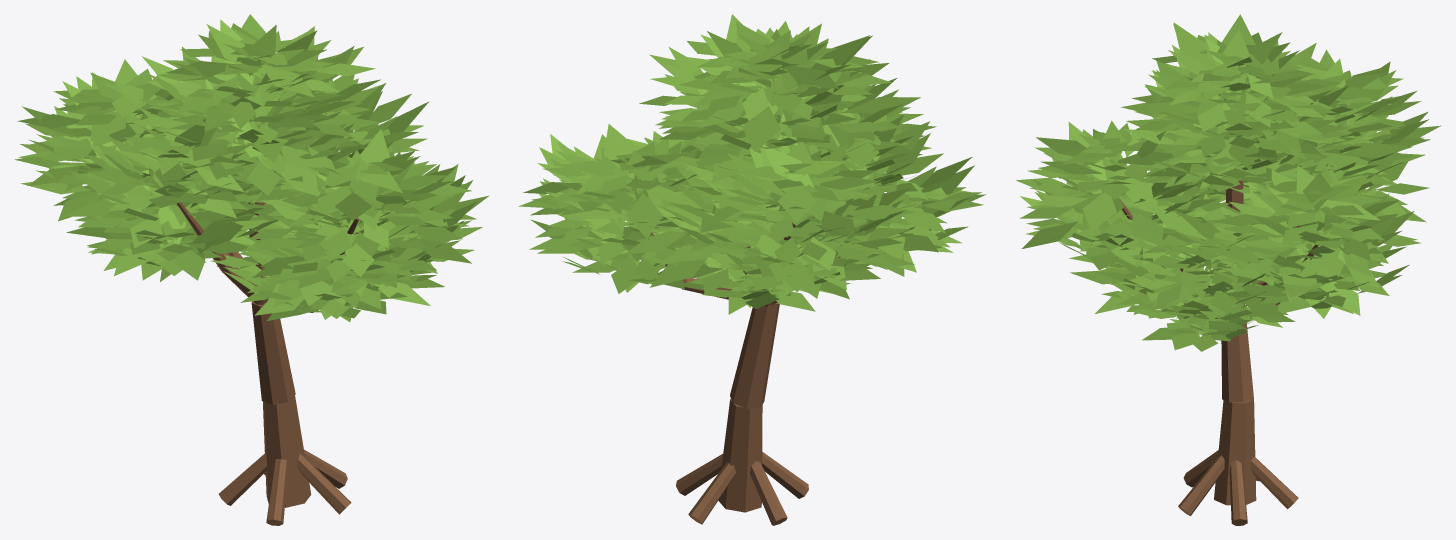
Rendered from Tree_42.glb.
The picture shows the model from 3 angles, left to right: view 1: azimuth 30°, elevation 25°; view 2: azimuth 150°, elevation 25°; view 3: azimuth 270°, elevation 25°; orthographic projection. The views are drawn at different scales.
Parts seen in each view (by area): view 1: Tree_42; view 2: Tree_42; view 3: Tree_42.
Part boxes in pixels (x1=…): Tree_42: x1=15, y1=14, x2=489, y2=525; Tree_42: x1=518, y1=14, x2=986, y2=525; Tree_42: x1=1016, y1=14, x2=1441, y2=525.
Bounding box in the file's own units: 4.54 × 5.12 × 4.45.
